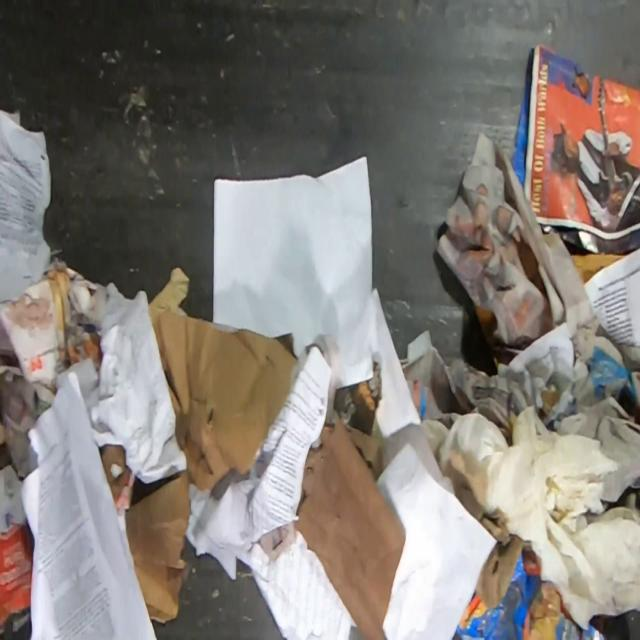cardboard: (125, 265, 298, 624), (292, 416, 406, 640), (0, 464, 34, 634)
soft_plastic: (456, 546, 610, 640)
